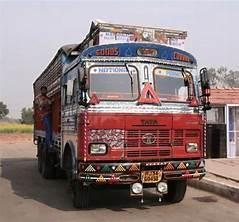truck: (27, 31, 208, 208)
